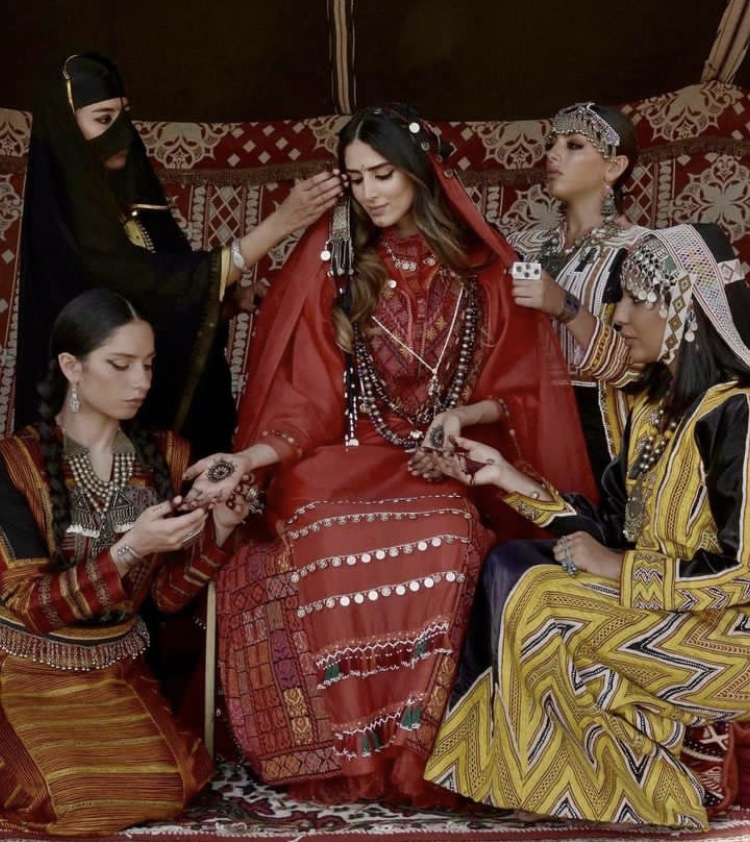Saudi_Founding_Day: (177, 104, 603, 813), (422, 222, 750, 837), (12, 49, 351, 534), (1, 292, 261, 838), (501, 100, 707, 524)
